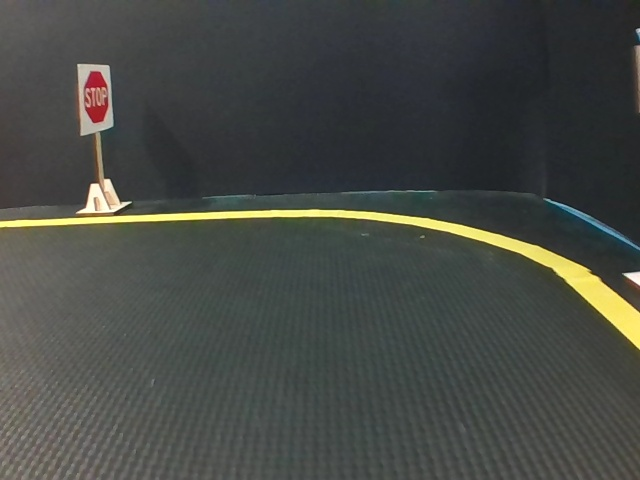stop: (79, 65, 113, 129)
